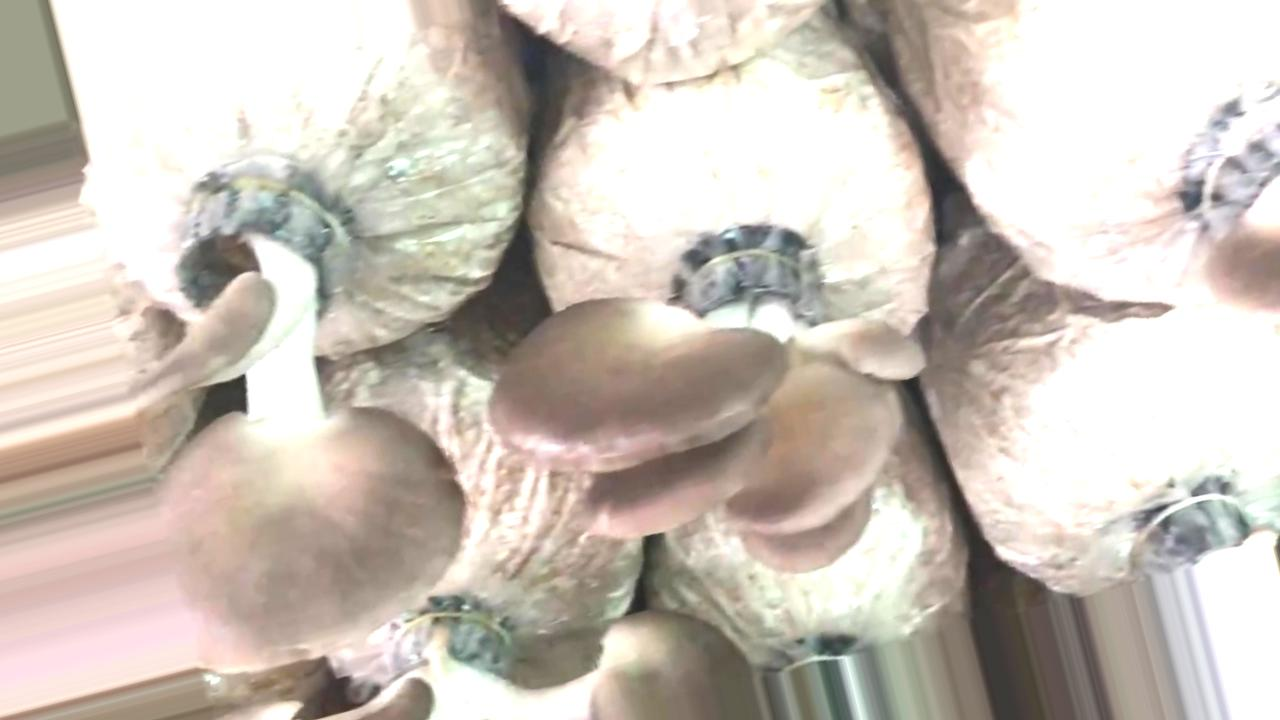nam: (157, 167, 471, 660), (488, 239, 934, 575), (165, 614, 774, 720)
